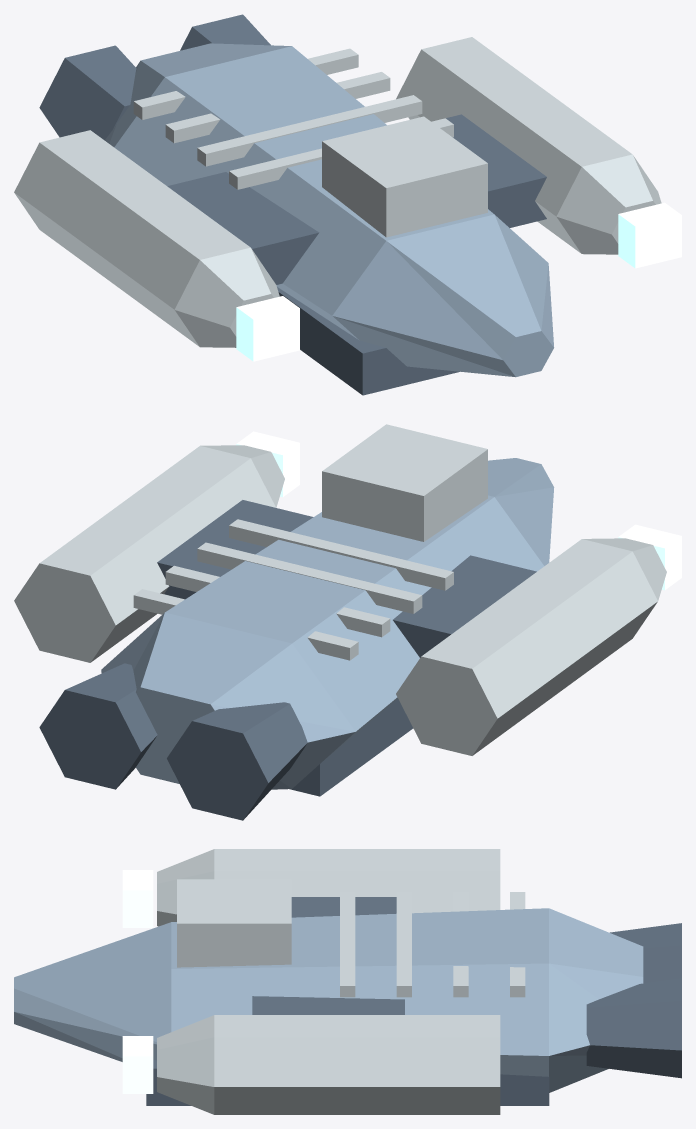
3 views of the same model, one above another, from view 1: azimuth 30°, elevation 25°; view 2: azimuth 150°, elevation 25°; view 3: azimuth 270°, elevation 25° (orthographic). The views are drawn at different scales.
Size of the model in its own units: 5.06 by 1.85 by 6.79.
